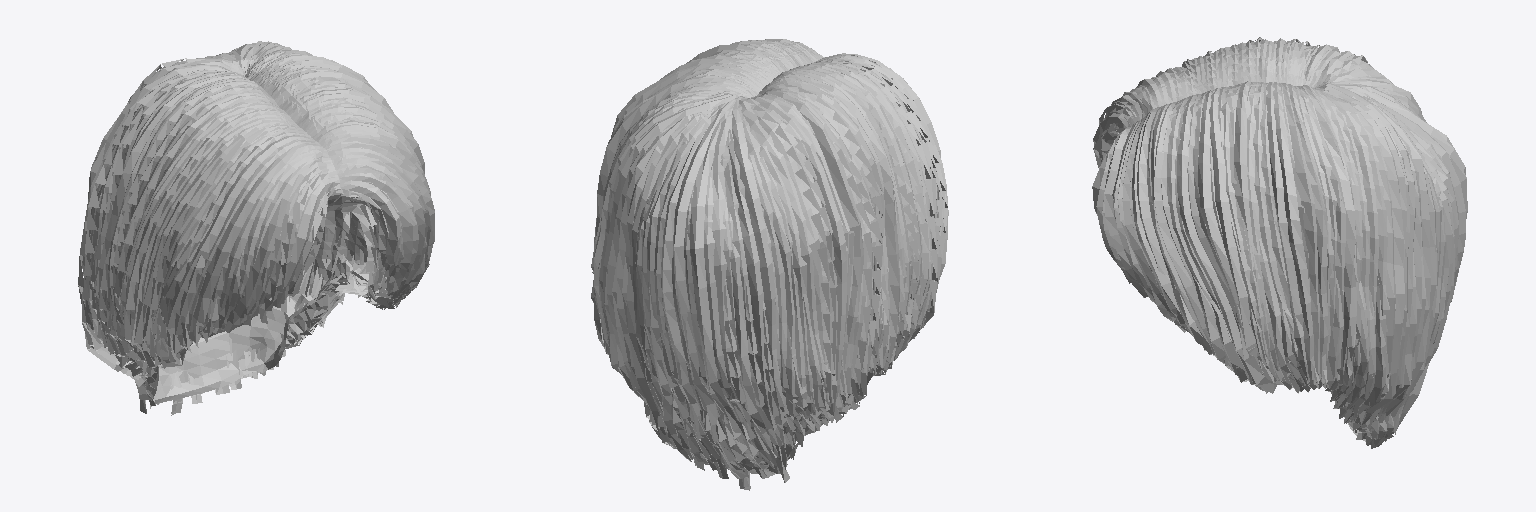
Rendered from Hairstyle 24.obj.
3 views of the same model, side by side, from view 1: azimuth 30°, elevation 25°; view 2: azimuth 150°, elevation 25°; view 3: azimuth 270°, elevation 25° (orthographic).
Visible parts, largest first — view 1: Hairstyle_24; view 2: Hairstyle_24; view 3: Hairstyle_24.
Boxes of the visible parts, x1,y1,x2,y2 form: Hairstyle_24: [78, 41, 434, 415]; Hairstyle_24: [591, 39, 948, 490]; Hairstyle_24: [1092, 37, 1467, 448].
Size of the model in its own units: 23.29 by 27.92 by 25.09.